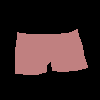shorts: (14, 28, 88, 74)
